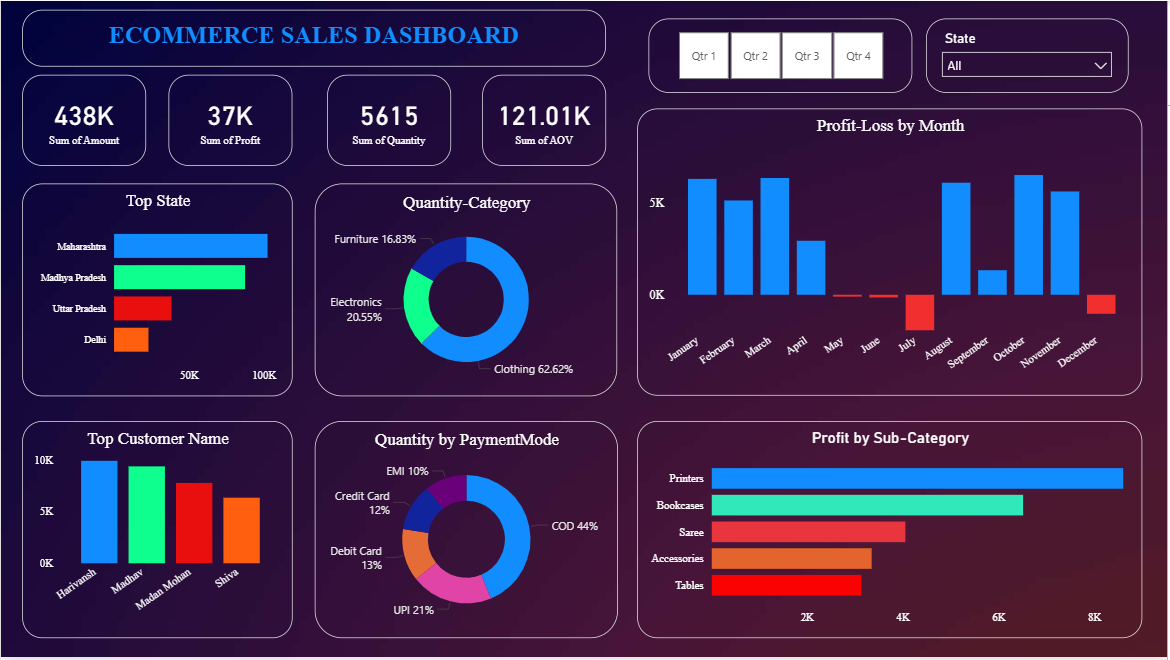

Layout of this report page (visuals, bound fields, positions):
{"tool":"powerbi","page":{"name":"Page 1","canvas":[1280,720],"ordinal":0},"visuals":[{"type":"barChart","title":"Profit by Sub-Category","fields":{"Category":["Details.Sub-Category"],"Y":["Details.Profit"]},"box":[698.8,461.6,554.7,238.4],"z":0},{"type":"donutChart","title":"Quantity by PaymentMode","fields":{"Category":["Details.PaymentMode"],"Y":["Details.Quantity"]},"box":[344.2,461.6,332.6,238.4],"z":2000},{"type":"card","fields":{"Values":["Details.Amount"]},"box":[23.3,81.4,136,100],"z":3000},{"type":"card","fields":{"Values":["Details.Quantity"]},"box":[358.1,81,135.8,100.2],"z":4000},{"type":"card","fields":{"Values":["Details.Profit"]},"box":[183.9,81,135.8,100.2],"z":5000},{"type":"card","fields":{"Values":["Details.AOV"]},"box":[527.9,81.4,136,100],"z":6000},{"type":"barChart","title":"Top State","fields":{"Y":["Details.Amount"],"Category":["Orders.State"]},"box":[23.3,200,296.5,233.7],"z":7000},{"type":"columnChart","title":"Top Customer Name","fields":{"Category":["Orders.CustomerName"],"Y":["Details.Amount"]},"box":[23.3,461.6,296.5,238.4],"z":8000},{"type":"slicer","fields":{"Values":["Orders.Order Date.Variation.Date Hierarchy.Quarter"]},"box":[710.5,18.6,289.5,81.4],"z":9000},{"type":"slicer","fields":{"Values":["Orders.State"]},"box":[1015.1,18.6,222.1,81.4],"z":10000},{"type":"textbox","box":[23.3,9.3,640.7,62.8],"z":11000},{"type":"columnChart","title":"Profit-Loss by Month","fields":{"Category":["Orders.Order Date.Variation.Date Hierarchy.Month"],"Y":["Details.Profit"]},"box":[698.8,118.6,554.7,315.1],"z":12000},{"type":"donutChart","title":"Quantity-Category","fields":{"Category":["Details.Category"],"Y":["Details.Quantity"]},"box":[344.4,200.3,332.1,233.3],"z":13000}]}

Visuals, with their boxes in screenshot pixels (x1, y1, x2, y2), scaled from the page's 1280x720 canvas onto the 1170x660 screenshot:
"Profit by Sub-Category" barChart: [639,423,1146,642]
"Quantity by PaymentMode" donutChart: [315,423,619,642]
card - Details.Amount: [21,75,146,166]
card - Details.Quantity: [327,74,451,166]
card - Details.Profit: [168,74,292,166]
card - Details.AOV: [483,75,607,166]
"Top State" barChart: [21,183,292,398]
"Top Customer Name" columnChart: [21,423,292,642]
slicer - Orders.Order Date.Variation.Date Hierarchy.Quarter: [649,17,914,92]
slicer - Orders.State: [928,17,1131,92]
textbox: [21,9,607,66]
"Profit-Loss by Month" columnChart: [639,109,1146,398]
"Quantity-Category" donutChart: [315,184,618,397]
